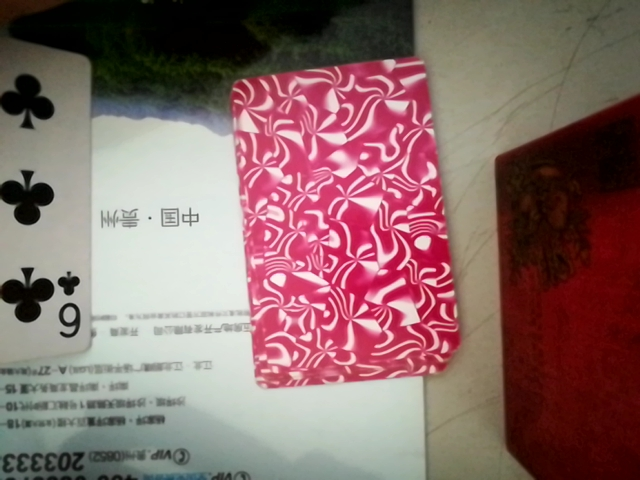mh 6: (14, 160, 102, 346)
